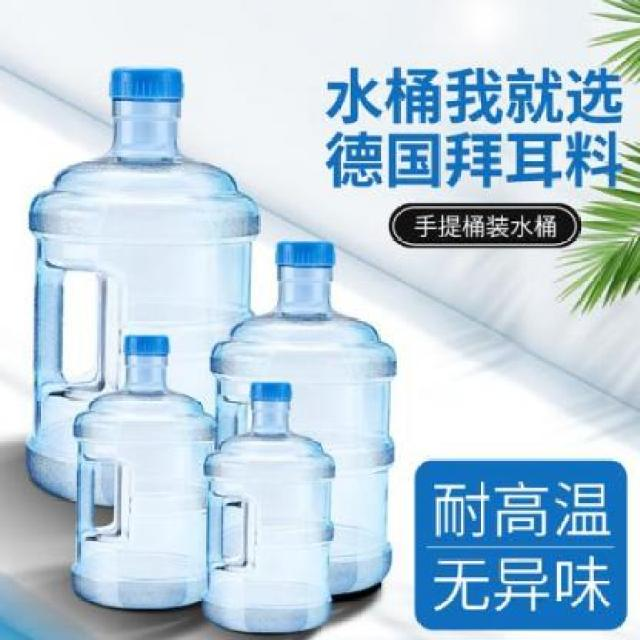coolerbottle: (22, 59, 266, 512), (71, 329, 220, 619), (195, 378, 337, 636)
